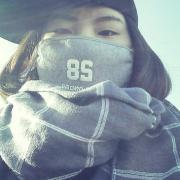OK: (38, 14, 129, 101)
